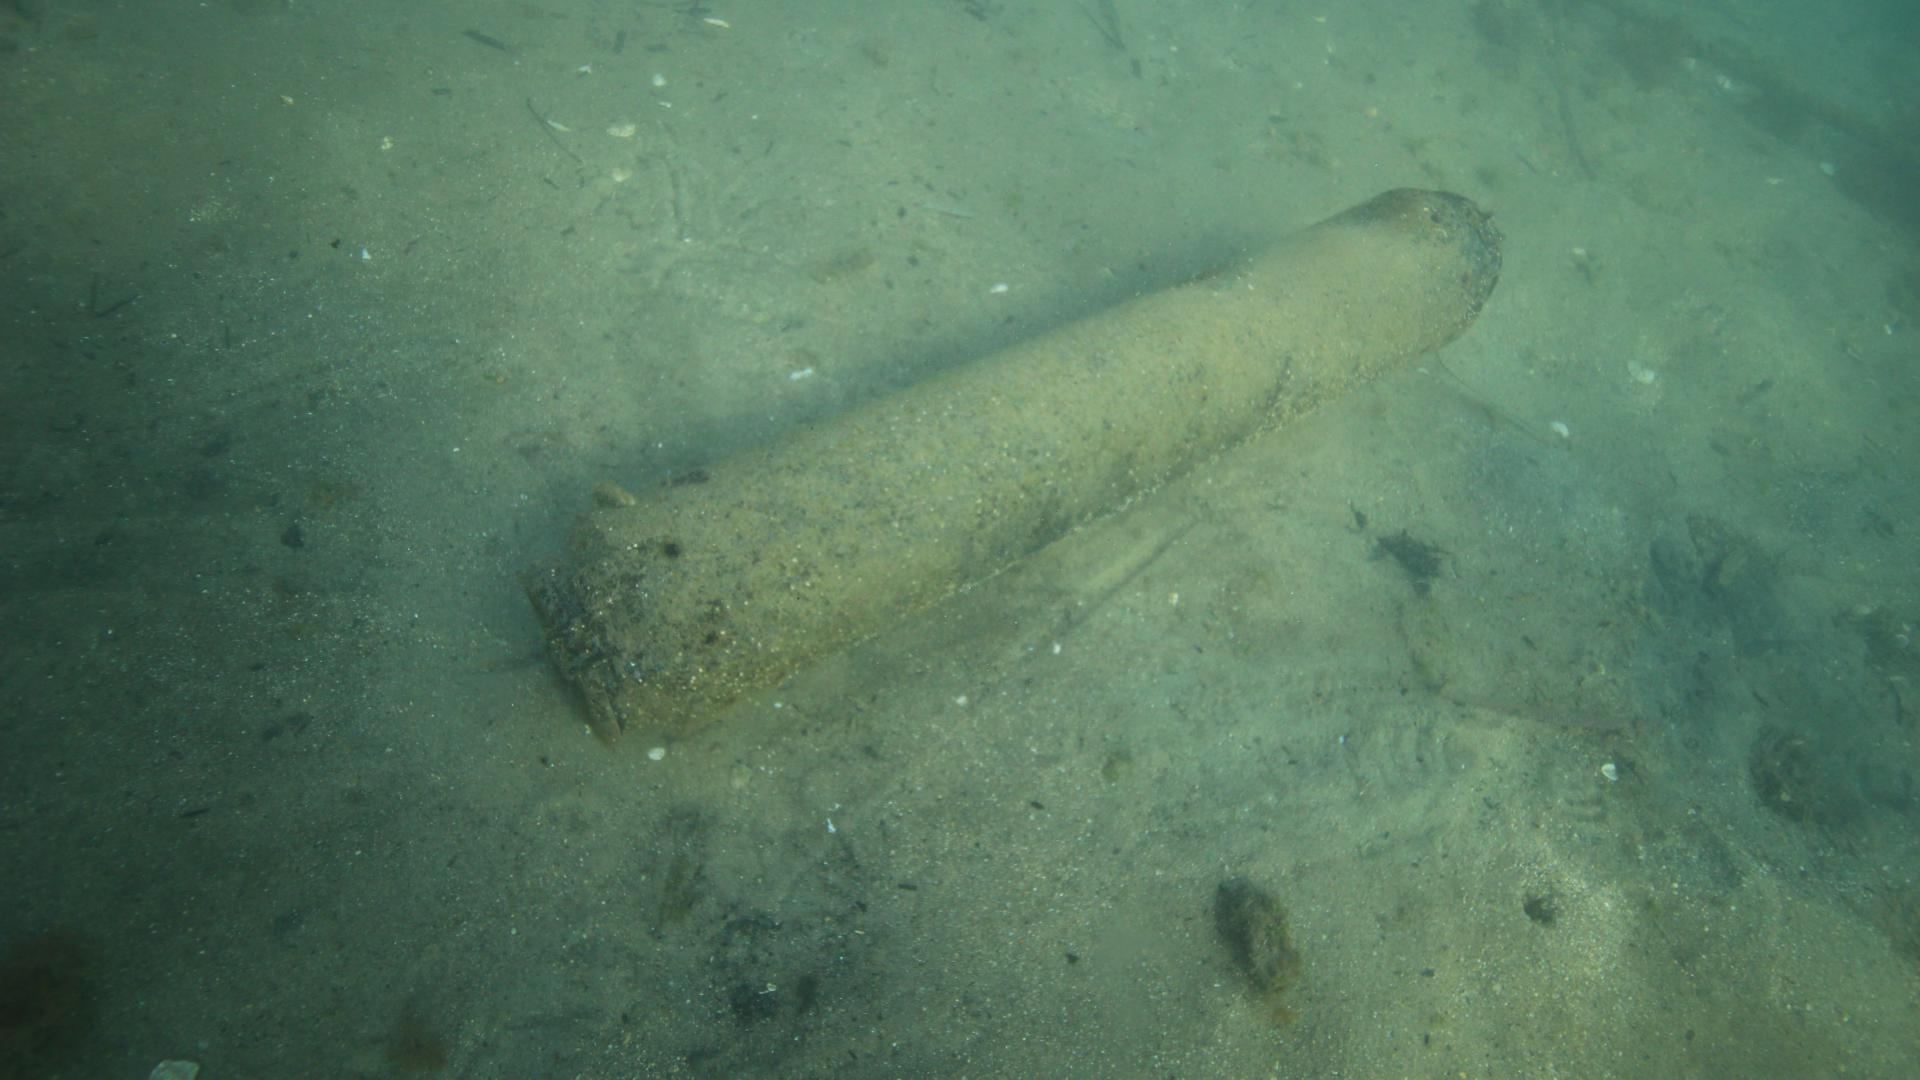eel fish trap: (535, 183, 1509, 750)
